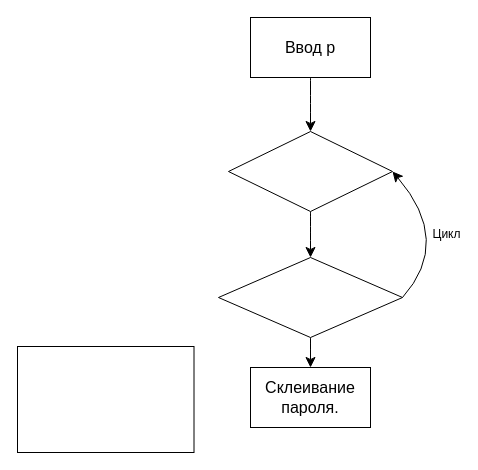
The diagram is 478 pixels wide and 470 high, and some of its shapes have lost their labels. Each missing label, with the centre of its shape:
"Суммировать 1 + 1/ (1 + 1)" belongs at (310,297).
"Цикл до p - 1" belongs at (310,171).
